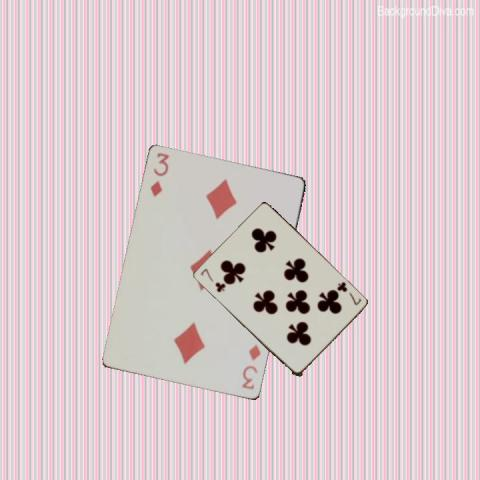3d: (147, 150, 171, 199), (239, 342, 262, 392)
7c: (197, 265, 226, 294), (333, 278, 363, 306)
